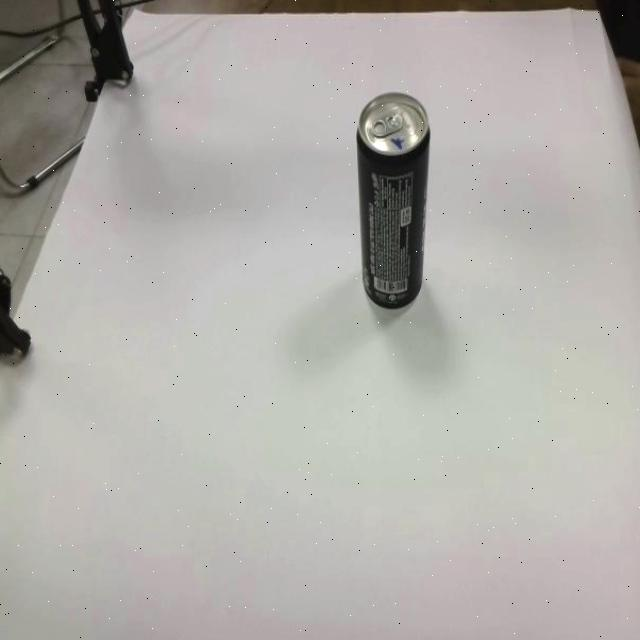debris: (355, 92, 432, 310)
